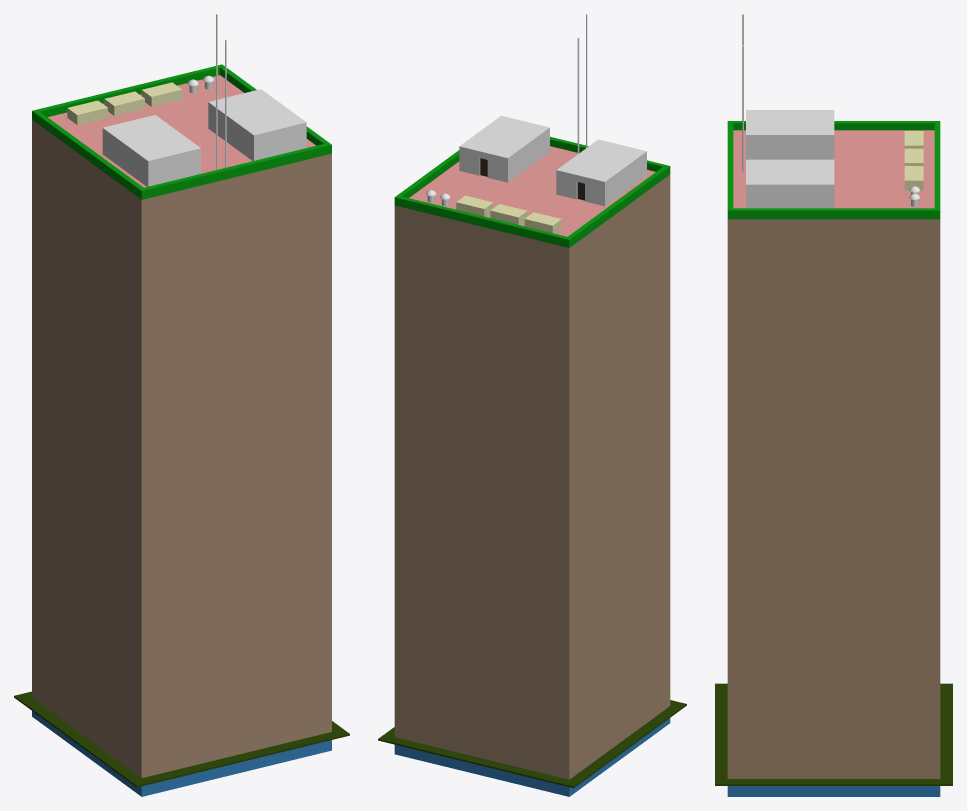
Rendered from building1.fbx.
3 views of the same model, side by side, from view 1: azimuth 30°, elevation 25°; view 2: azimuth 150°, elevation 25°; view 3: azimuth 270°, elevation 25° (orthographic). The views are drawn at different scales.
Visible parts, largest first — view 1: Building_1.001; view 2: Building_1.001; view 3: Building_1.001.
Boxes of the visible parts, x1,y1,x2,y2 form: Building_1.001: [14, 14, 349, 796]; Building_1.001: [378, 14, 686, 796]; Building_1.001: [715, 14, 952, 796].
Size of the model in its own units: 275 by 933 by 275.
